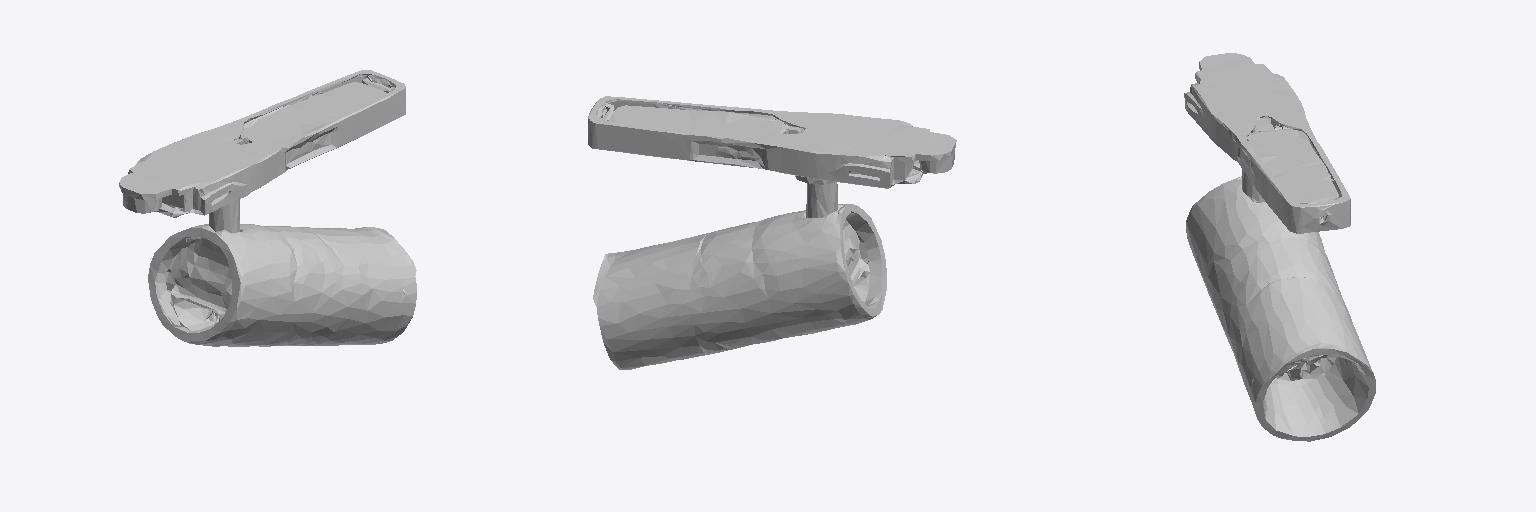
The model's file is luminaria4.obj.
3 views of the same model, side by side, from view 1: azimuth 30°, elevation 25°; view 2: azimuth 150°, elevation 25°; view 3: azimuth 270°, elevation 25° (orthographic).
Parts seen in each view (by area): view 1: luminaria4; view 2: luminaria4; view 3: luminaria4.
Boxes of the visible parts, x1=… form: luminaria4: x1=119, y1=70, x2=416, y2=346; luminaria4: x1=588, y1=96, x2=956, y2=369; luminaria4: x1=1184, y1=53, x2=1375, y2=441.
Size of the model in its own units: 2.11 by 1.61 by 1.1.